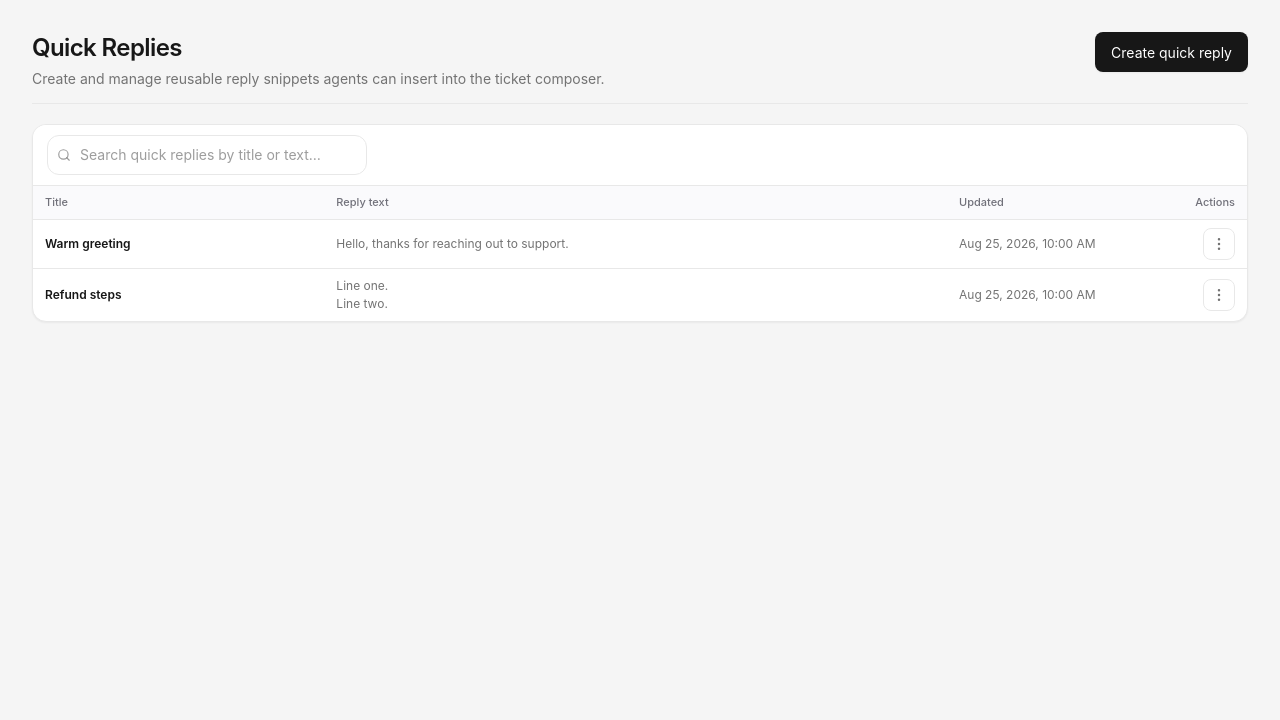
quick replies management › requires confirmation to delete and restores focus on cancel
This screenshot has width=1280, height=720.
Step 1. Click the button named "Actions" in the row of "Warm greeting" → [1219, 244], box [1203, 228, 1235, 260]
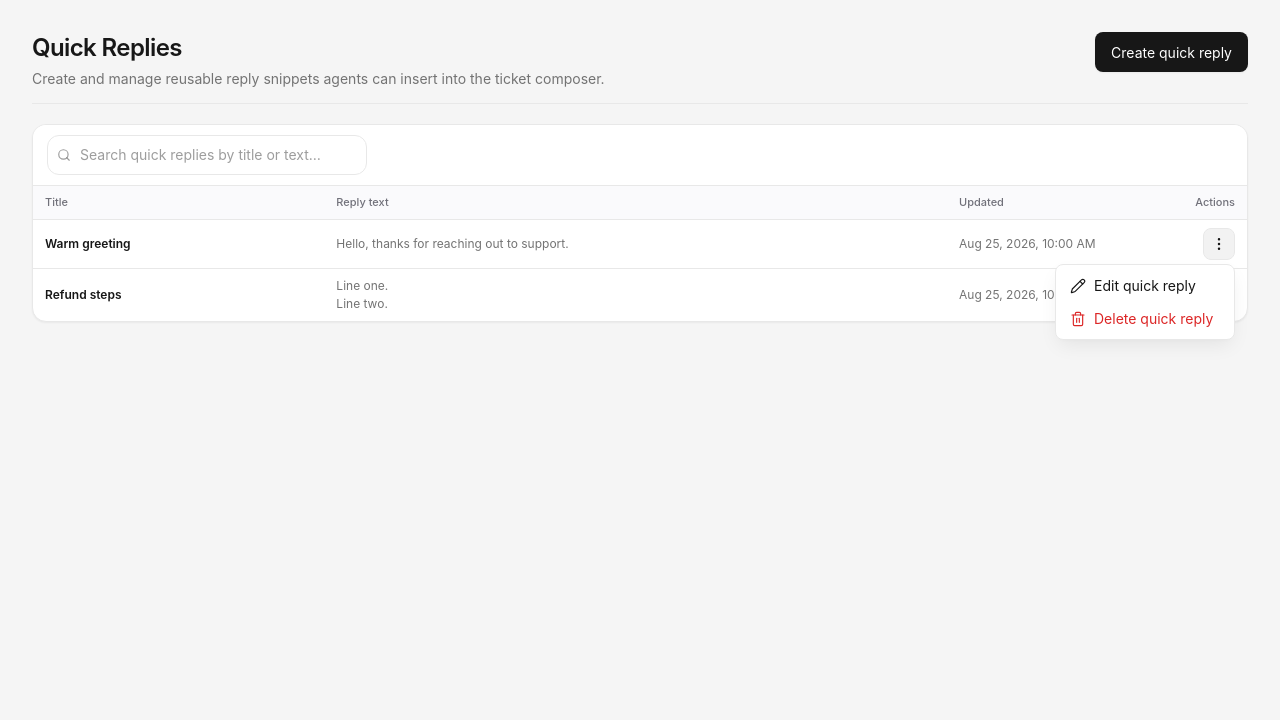
Step 2. Click the menu item "Delete quick reply" → [1145, 319], box [1060, 302, 1230, 335]
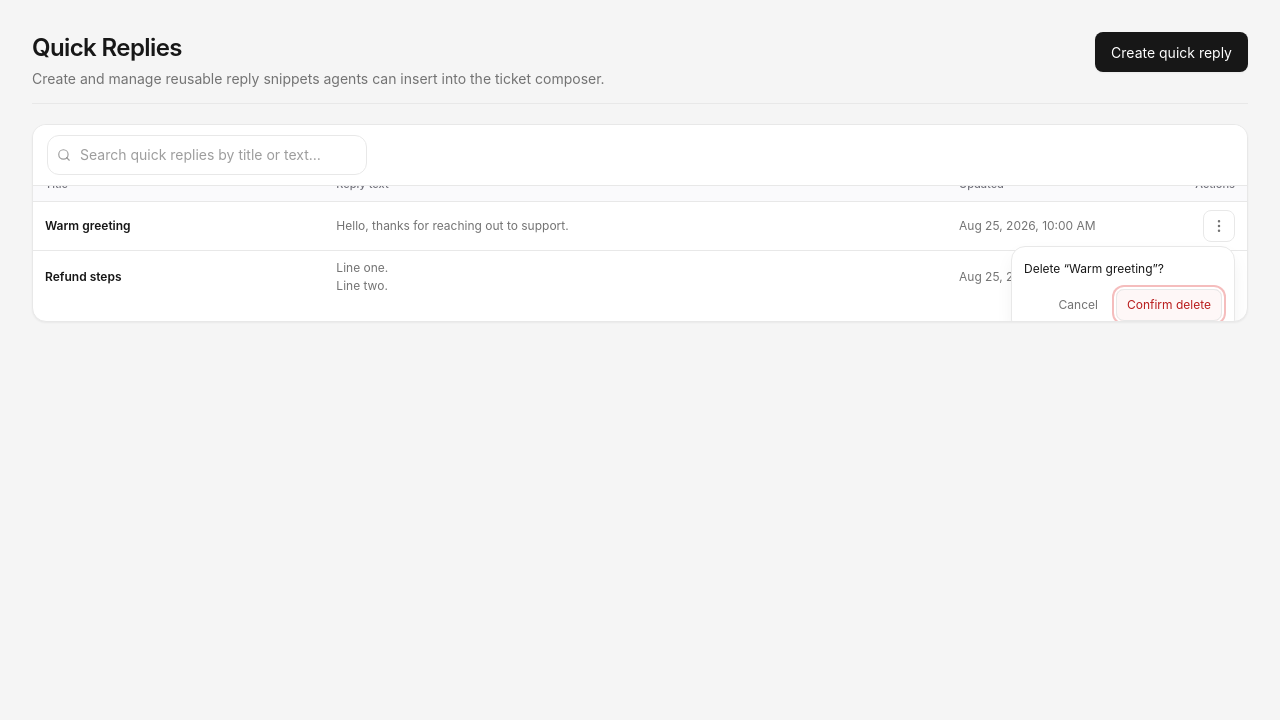
Step 3. Click the button "Cancel" → [1078, 305], box [1049, 289, 1108, 321]
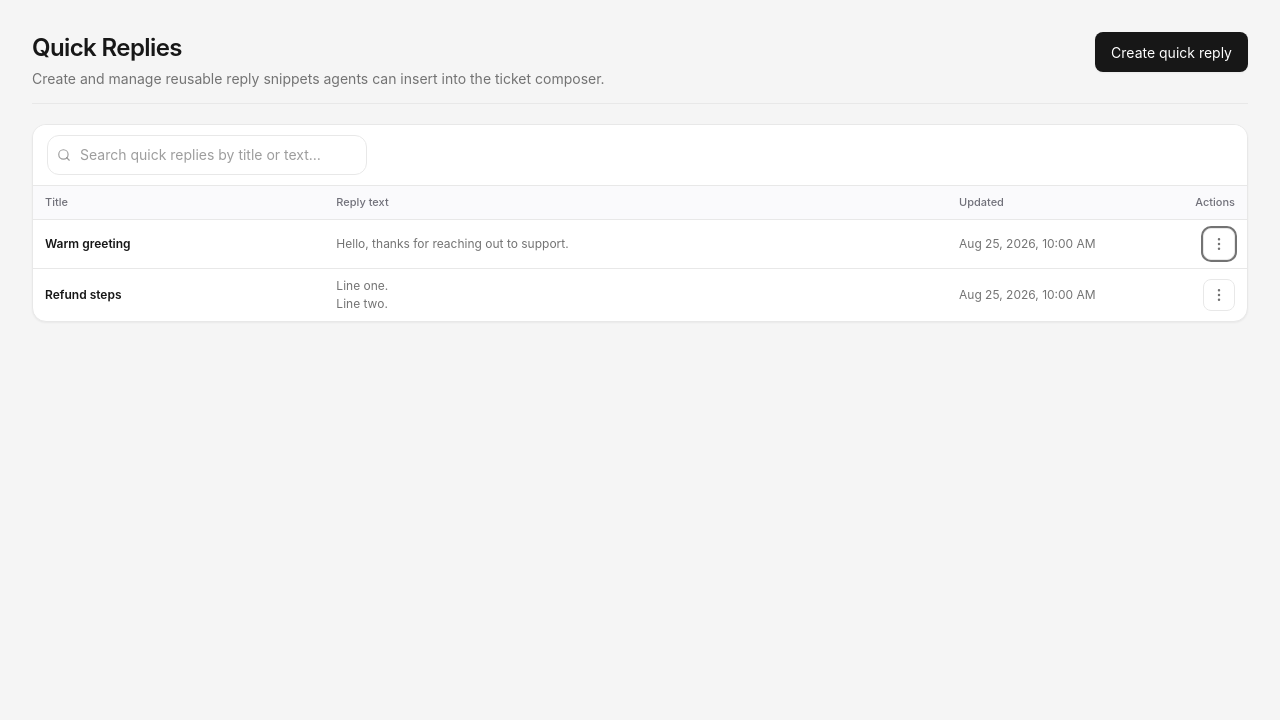
Result: the dialog is gone
